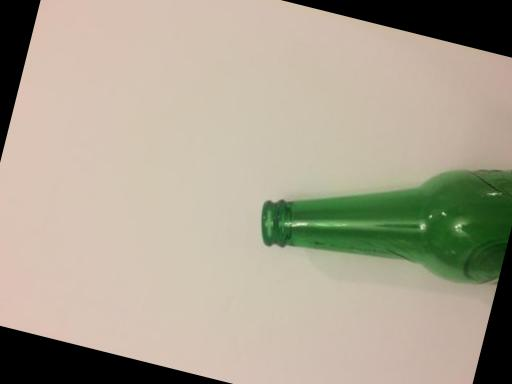glass: (198, 91, 512, 336)
